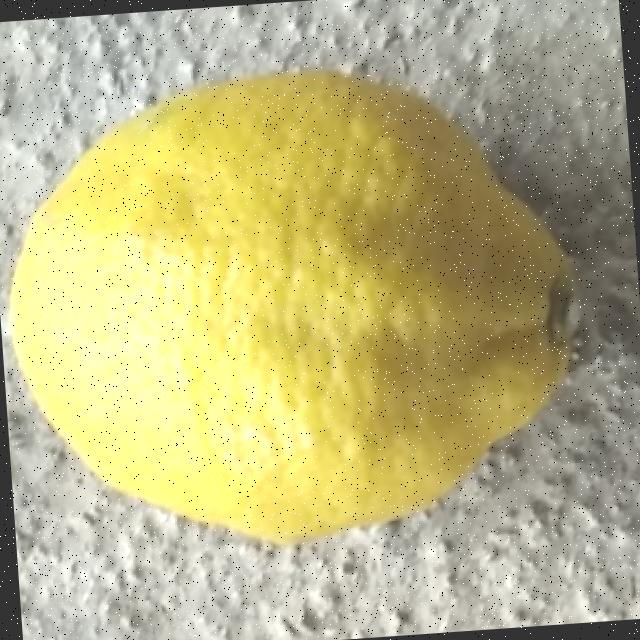Lemon: (0, 51, 601, 561)
